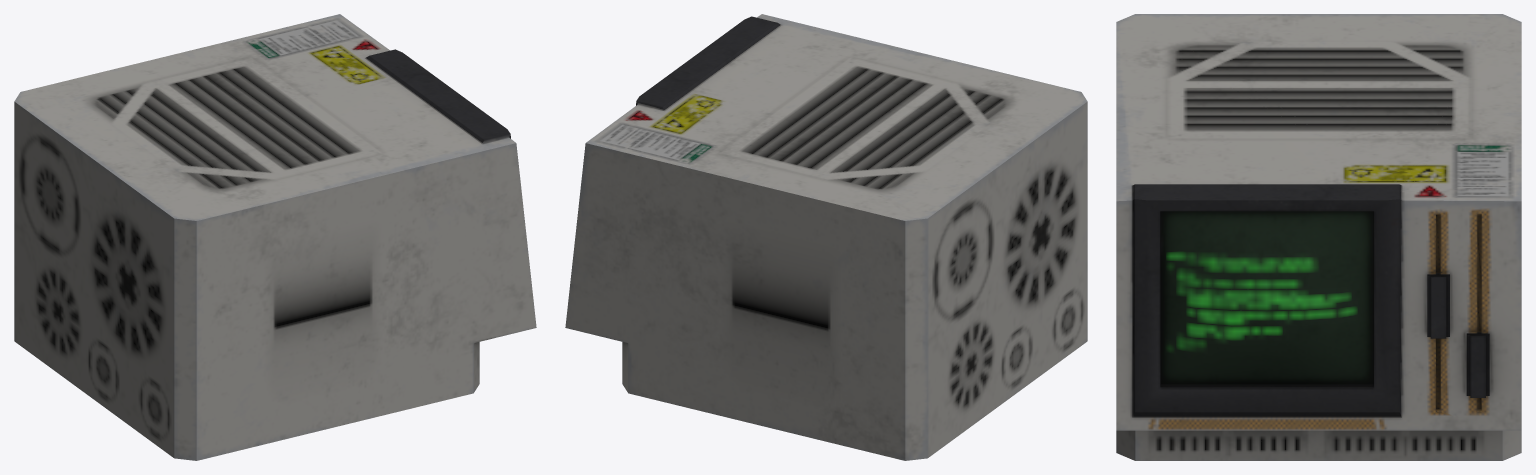
Rendered from Console 2.glb.
3 renders of one model, left to right at view 1: azimuth 30°, elevation 25°; view 2: azimuth 150°, elevation 25°; view 3: azimuth 270°, elevation 25°, orthographic. The views are drawn at different scales.
Visible parts, largest first — view 1: Console_2; view 2: Console_2; view 3: Console_2.
Boxes of the visible parts, <box> form: Console_2: <box>14,14,536,460</box>; Console_2: <box>565,14,1087,460</box>; Console_2: <box>1116,14,1521,460</box>.
Bounding box in the file's own units: 0.3577 × 0.2307 × 0.3036.
Materials: 1 (1 with a texture image).
